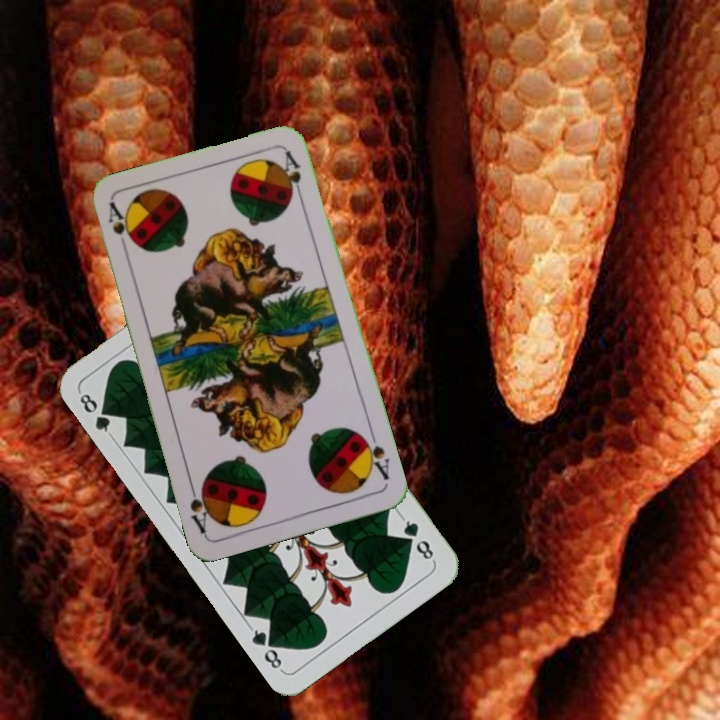G8: (75, 387, 117, 440), (397, 513, 437, 565)
SA: (356, 426, 392, 483), (104, 199, 136, 257)
